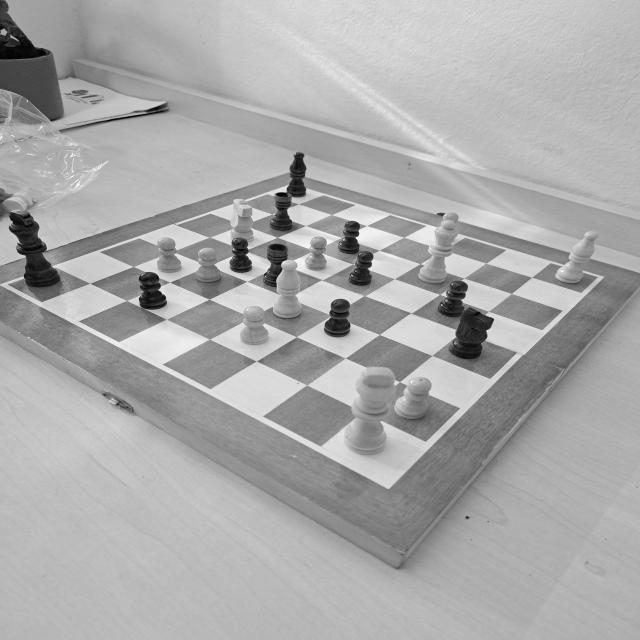chess-table-corners: (368, 470, 406, 493), (283, 180, 309, 192), (588, 272, 608, 284), (0, 278, 16, 290)
